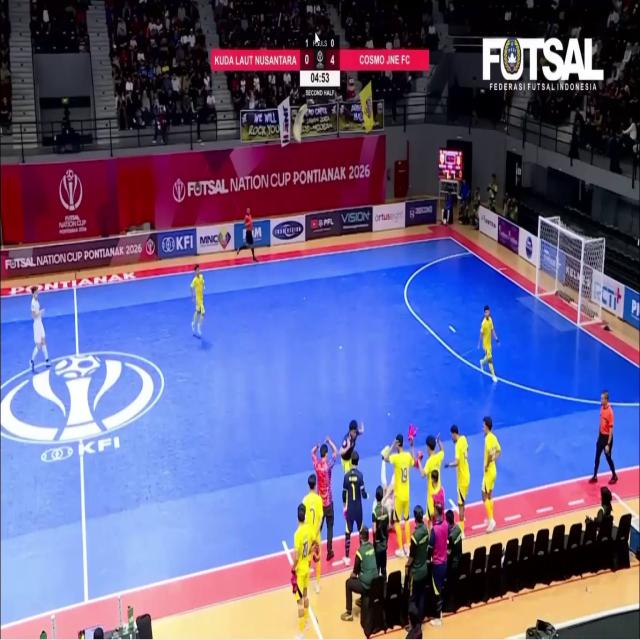keeper: (343, 451, 368, 564)
official: (342, 526, 378, 620), (312, 437, 336, 560), (406, 505, 429, 623), (429, 503, 448, 626), (446, 510, 462, 608), (373, 486, 389, 582), (446, 510, 462, 574)
players: (386, 435, 414, 557), (292, 505, 316, 638), (343, 451, 368, 565), (446, 425, 469, 535), (303, 475, 323, 593), (482, 416, 501, 532), (30, 286, 50, 371), (479, 305, 499, 382), (191, 265, 204, 335)
referee: (590, 390, 617, 484), (237, 208, 257, 261)
